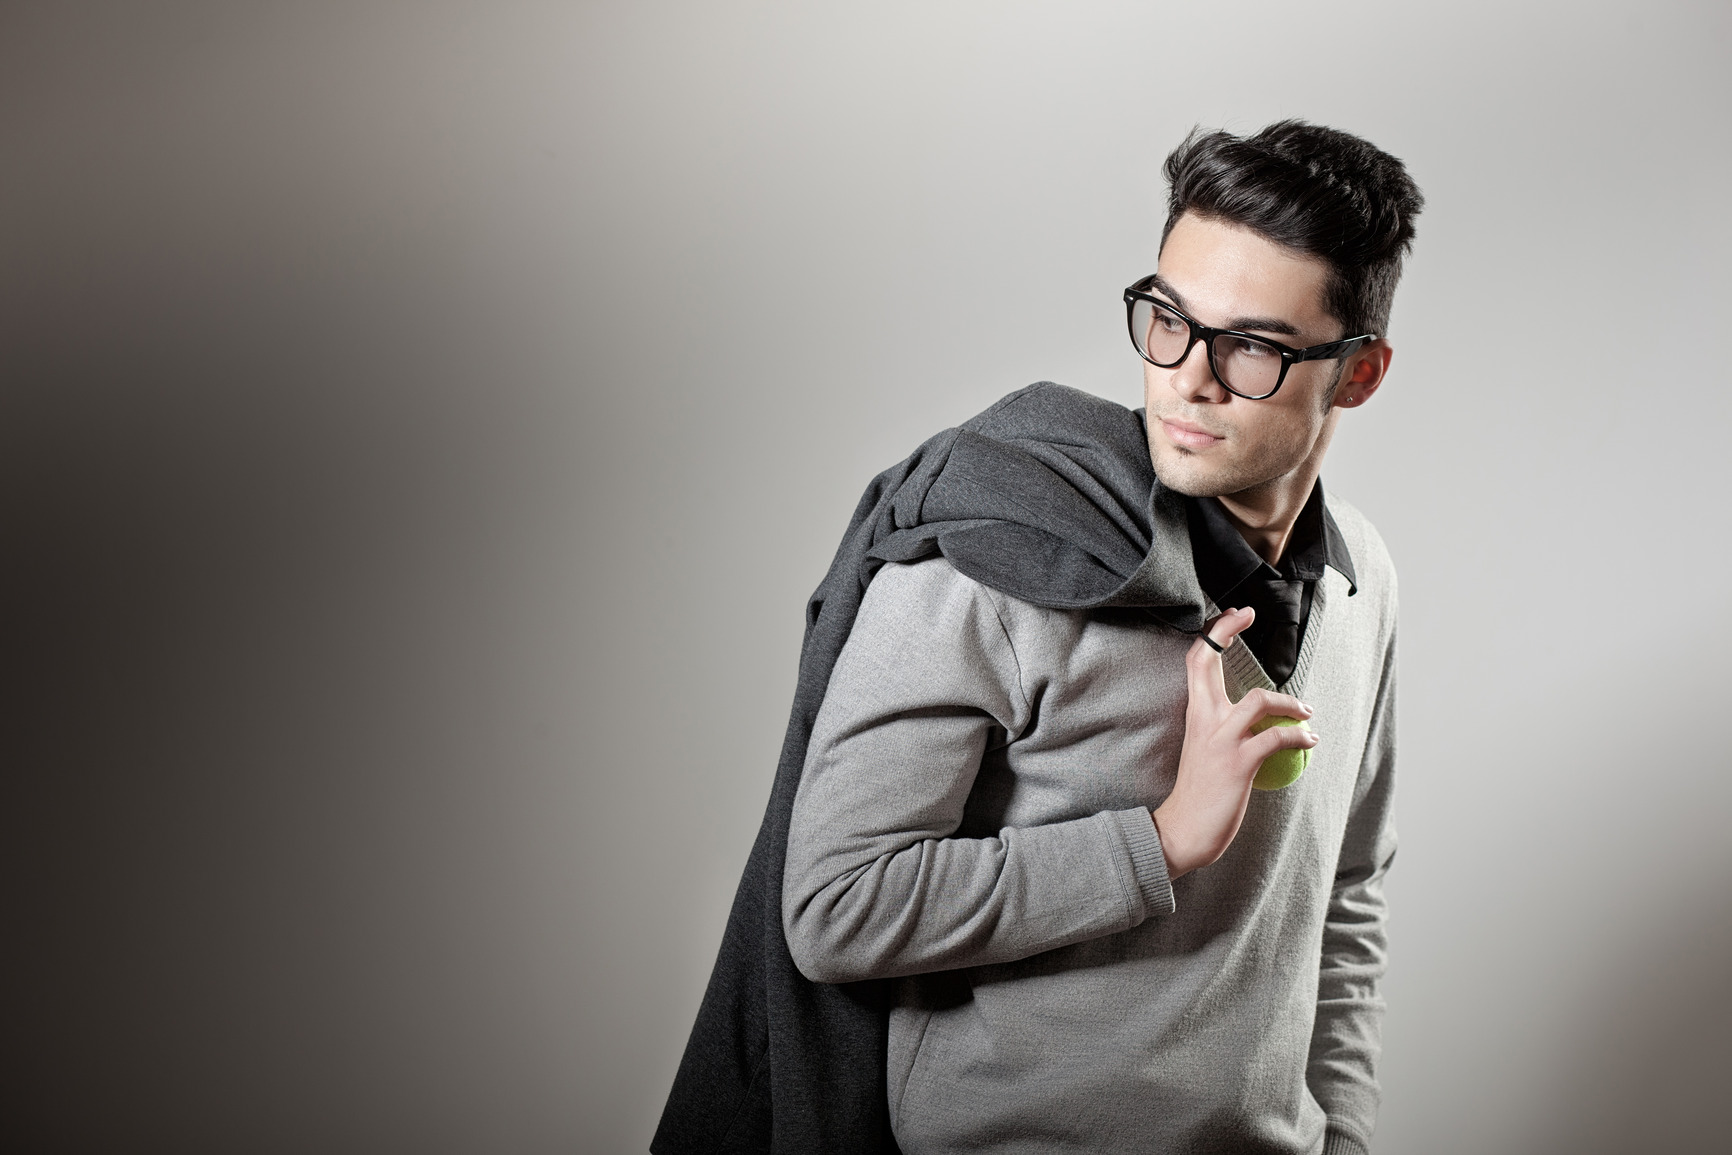glasses: (1113, 264, 1388, 405)
